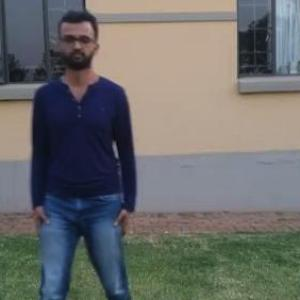follow: (24, 8, 132, 299)
